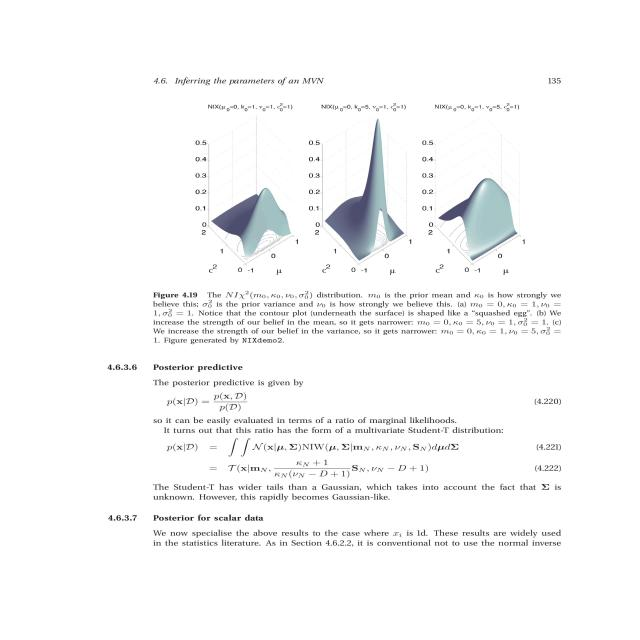diagram: (138, 92, 640, 346)
